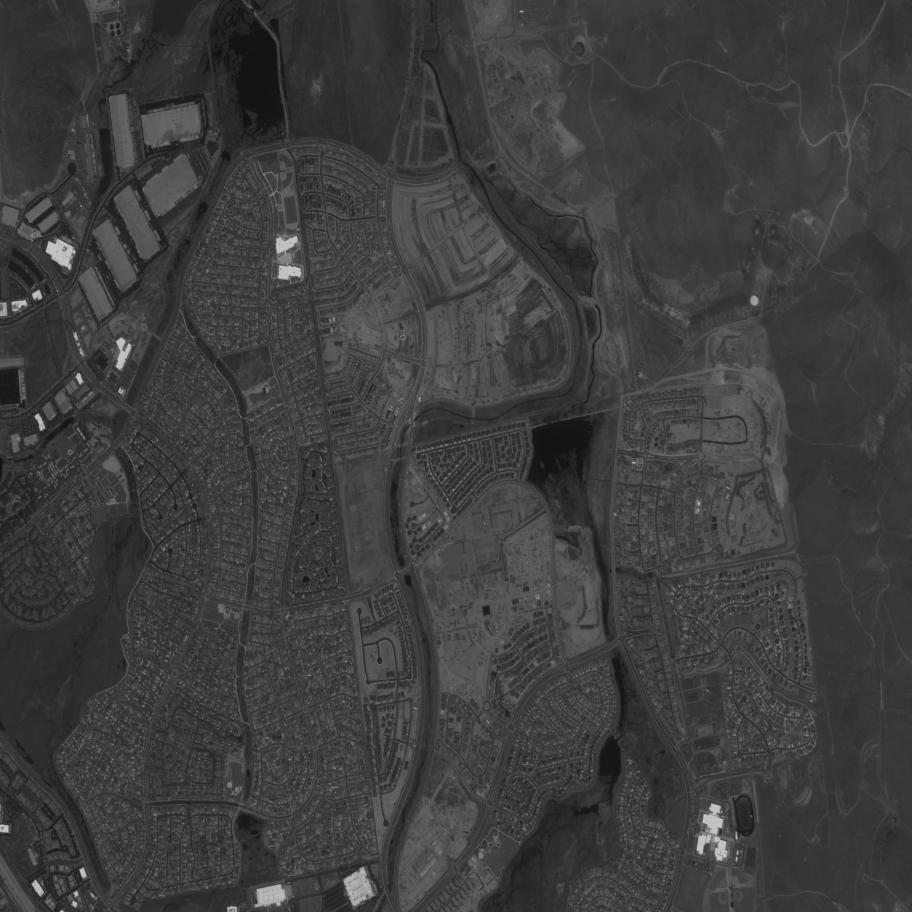storage-tank: (750, 295, 759, 306)
